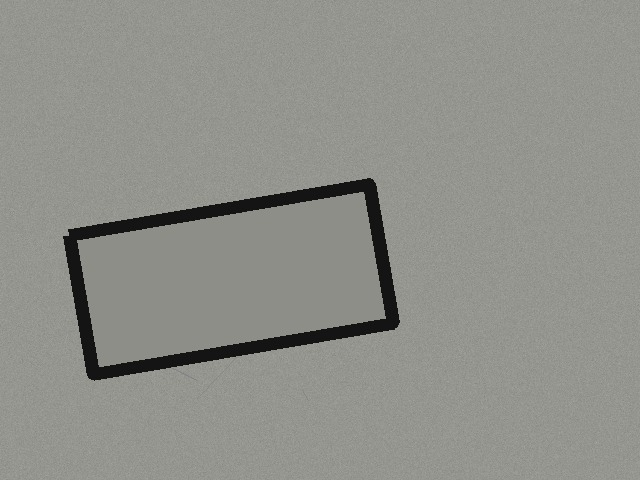parking_area: (69, 184, 393, 374)
